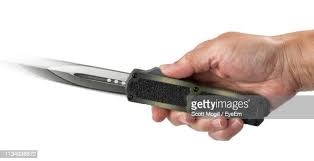knife: (13, 59, 271, 126)
